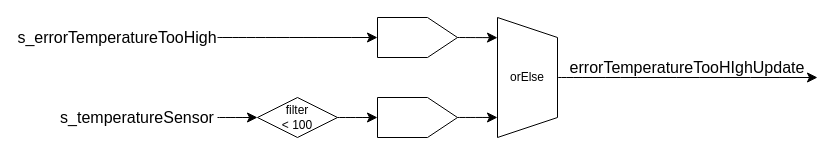
Image size: 834x155. Some labels were removed from this diagram. Here are the shapes that lost their labels. From the top down, the centre of each, then its label:
At point 417,37: "map to true".
At point 417,117: "map to false".
